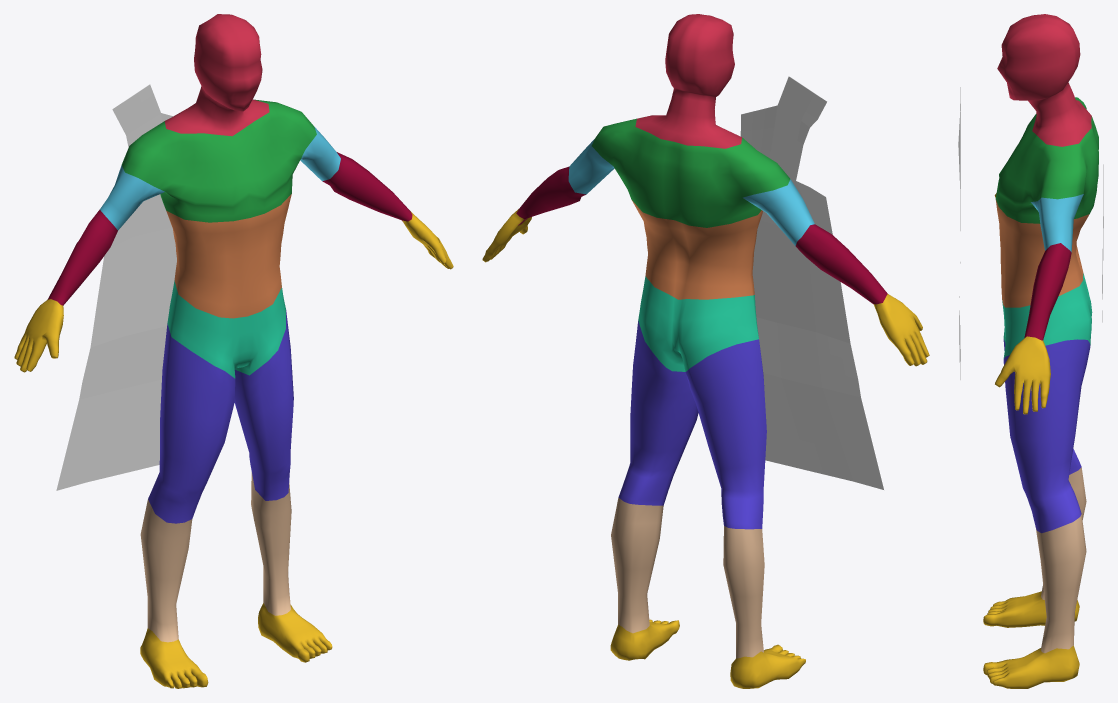
The model's file is ワンピース.glb.
3 views of the same model, side by side, from view 1: azimuth 30°, elevation 25°; view 2: azimuth 150°, elevation 25°; view 3: azimuth 270°, elevation 25° (orthographic). The views are drawn at different scales.
Visible parts, largest first — view 1: body, 平面; view 2: body, 平面; view 3: body, 平面.
Part boxes in pixels (bbox=[...]): body: bbox=[14, 14, 453, 688]; 平面: bbox=[56, 84, 176, 490]; body: bbox=[482, 14, 929, 688]; 平面: bbox=[740, 76, 883, 489]; body: bbox=[983, 14, 1098, 688]; 平面: bbox=[958, 87, 1103, 379].
Bounding box in the file's own units: 12.35 × 17.55 × 3.64.
